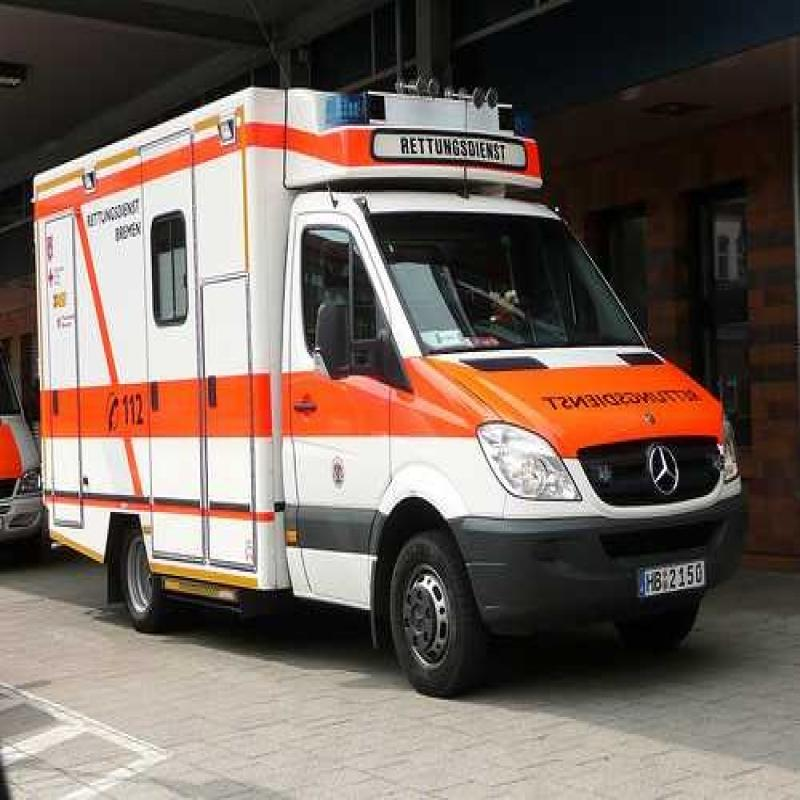AmbulanceSiren: (315, 82, 373, 133)
